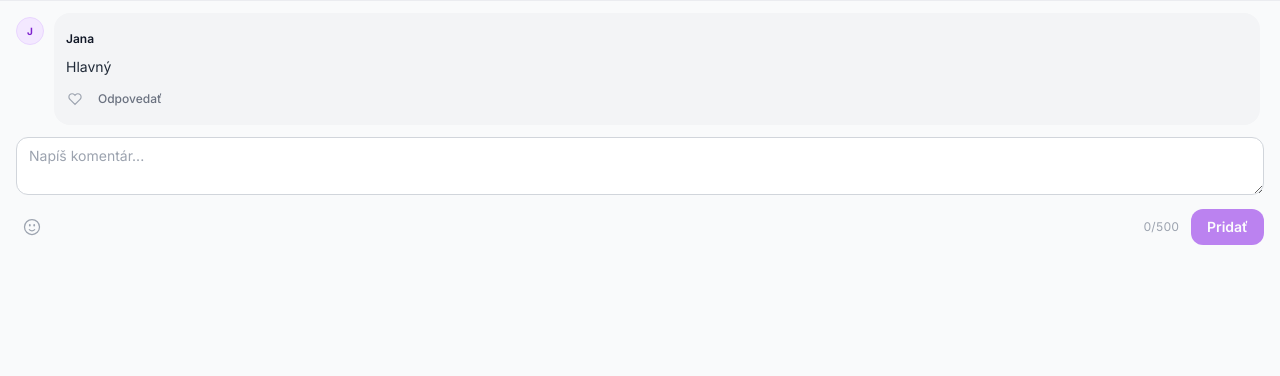
Scenario: closes the reply box on cancel without sending anything
The image size is (1280, 376).
Expected: the text "Hlavný" is shown, [66,58,111,75]
Click the button with test id "feed-comment-reply-1".
click(130, 99)  # box [92,81,168,117]
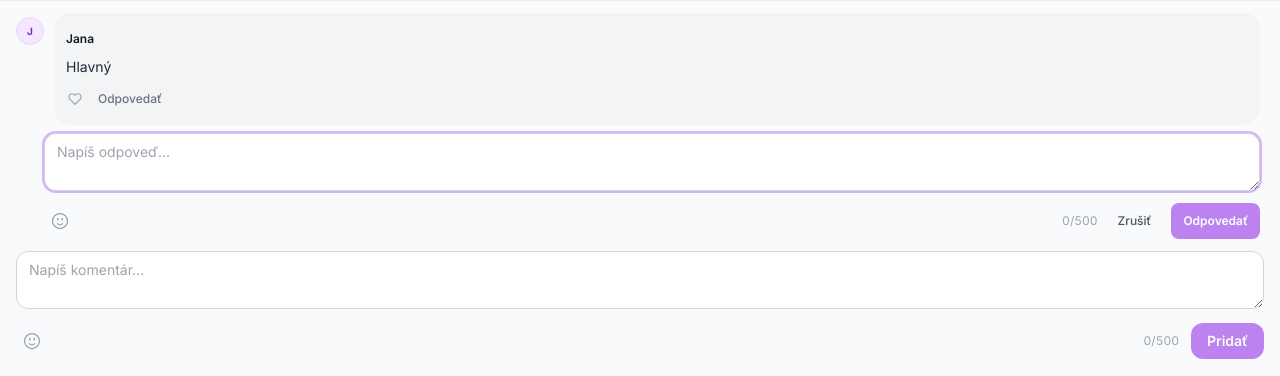
Expected: the element with test id "feed-reply-composer" is shown, [44,133,1260,239]
Click the button "Zrušiť".
click(1134, 221)  # box [1106,203,1163,239]
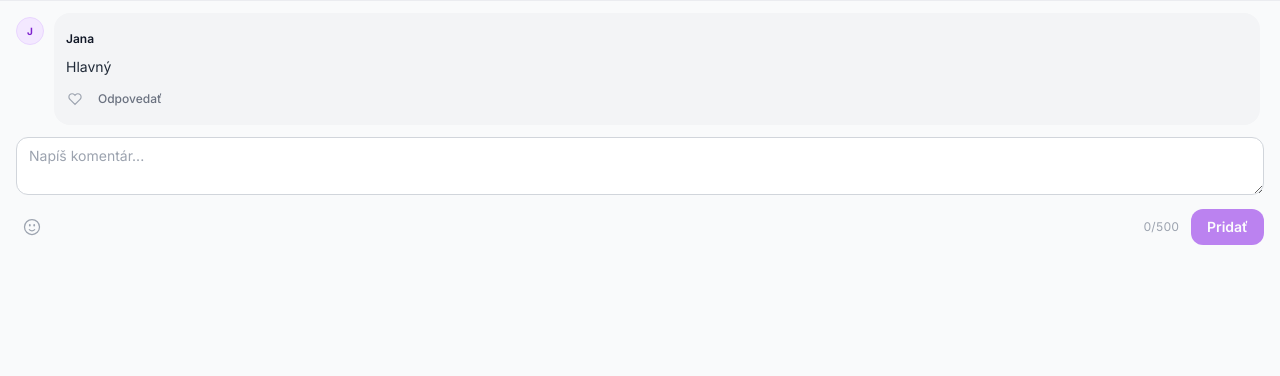
Expected: the element with test id "feed-reply-composer" is gone
